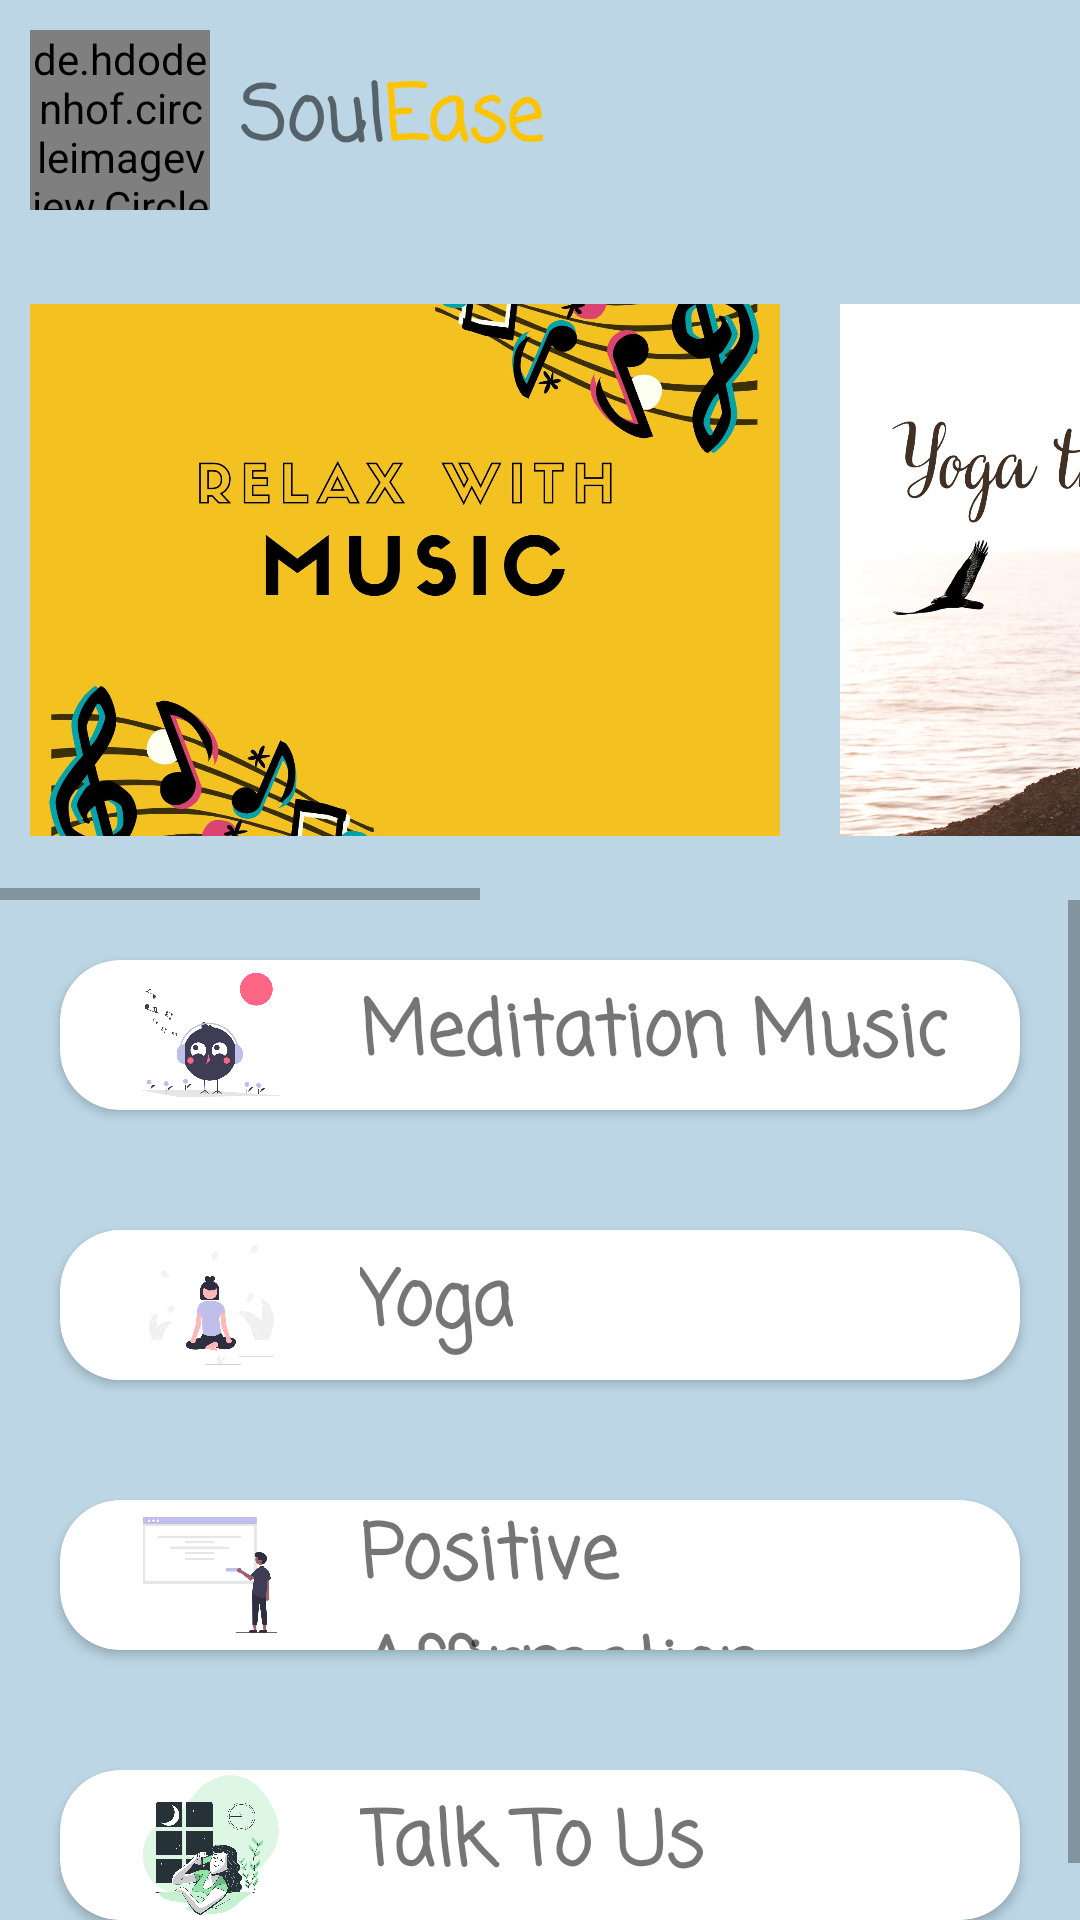

Where icons sit on this 1080 × 1920 app screen, as (x1, y1, x2, y2):
musicpng: (60, 960, 360, 1110)
